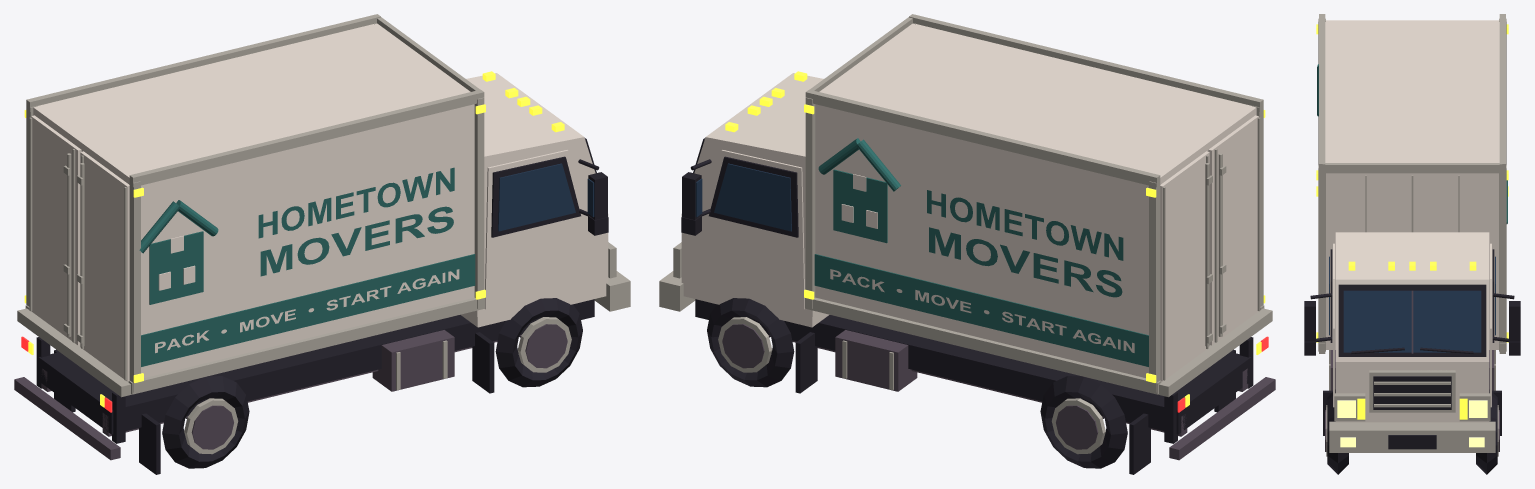
Rendered from veh.box-truck.lod1.glb.
The picture shows the model from 3 angles, left to right: view 1: azimuth 30°, elevation 25°; view 2: azimuth 150°, elevation 25°; view 3: azimuth 270°, elevation 25°; orthographic projection. The views are drawn at different scales.
Visible parts, largest first — view 1: body, object 8, wheelRL, wheelFL; view 2: body, object 8, wheelRR, wheelFR; view 3: body, object 8, lightsFront, wheelFL, wheelFR.
Boxes of the visible parts, x1,y1,x2,y2 form: body: (14, 14, 630, 474); object 8: (24, 71, 608, 382); wheelRL: (162, 376, 249, 468); wheelFL: (495, 298, 582, 387); body: (659, 14, 1275, 474); object 8: (681, 71, 1265, 382); wheelRR: (1040, 376, 1127, 468); wheelFR: (707, 298, 794, 387); body: (1317, 14, 1507, 452); object 8: (1304, 24, 1520, 407); lightsFront: (1337, 398, 1487, 447); wheelFL: (1325, 389, 1348, 474); wheelFR: (1476, 389, 1499, 474).
Size of the model in its own units: 6.82 by 3.97 by 2.79.
